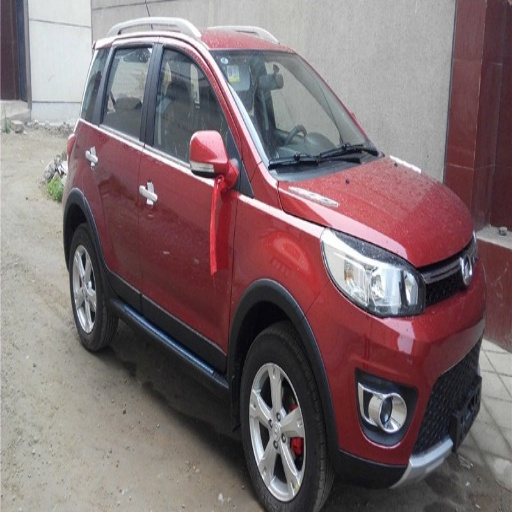front_bumper: (311, 244, 485, 470)
front_right_door: (139, 39, 241, 367)
front_right_light: (322, 232, 422, 317)
